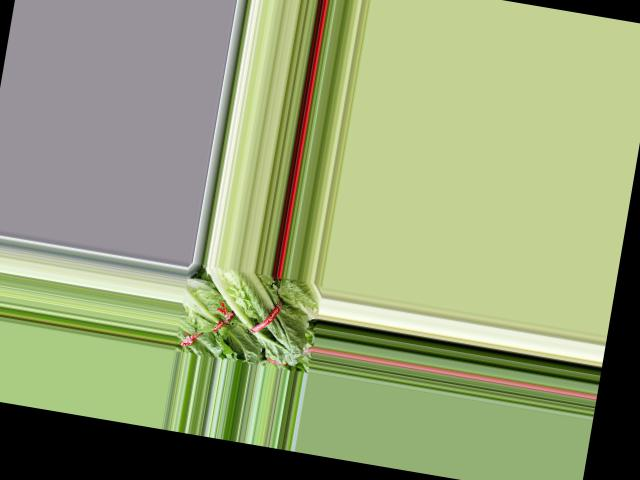lettuce: (193, 264, 317, 368)
